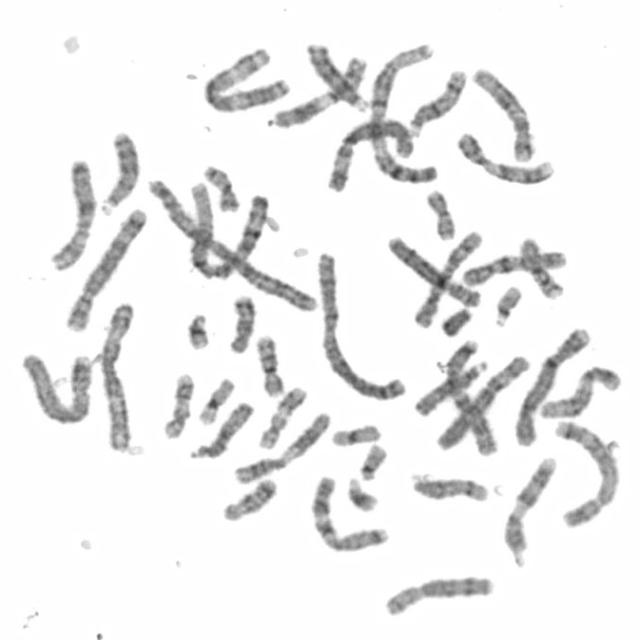A1: (364, 40, 438, 186), (186, 181, 270, 282)
A2: (147, 174, 320, 314), (314, 247, 407, 404)
A3: (95, 299, 138, 453), (199, 44, 293, 114)
B4: (509, 324, 591, 448), (17, 348, 94, 426)
B5: (61, 203, 149, 333), (550, 418, 620, 530)
C10: (409, 226, 485, 330), (458, 246, 569, 289)
C11: (230, 408, 333, 486), (269, 51, 369, 130)
C12: (469, 64, 535, 164), (537, 362, 622, 419)
C6: (430, 351, 532, 452), (324, 117, 416, 194)
C7: (306, 472, 391, 554), (442, 338, 499, 457)
C8: (383, 232, 483, 310), (380, 570, 496, 619)
C9: (499, 451, 560, 562), (454, 128, 556, 186)
D13: (302, 39, 369, 114), (95, 127, 142, 215)
D14: (403, 65, 468, 136), (406, 470, 491, 505)
D15: (411, 355, 492, 418), (183, 397, 256, 462)
E16: (515, 234, 566, 302), (252, 331, 286, 397)
E17: (254, 384, 309, 451), (159, 372, 196, 441)
E18: (218, 475, 280, 524), (224, 291, 258, 355)
F19: (195, 374, 237, 426), (327, 420, 382, 448)
F20: (200, 161, 240, 213), (422, 186, 458, 242)
G21: (344, 474, 382, 514), (182, 308, 212, 352)
G22: (490, 281, 526, 329), (356, 440, 388, 481)
X: (45, 155, 99, 272)
Y: (438, 304, 473, 338)
